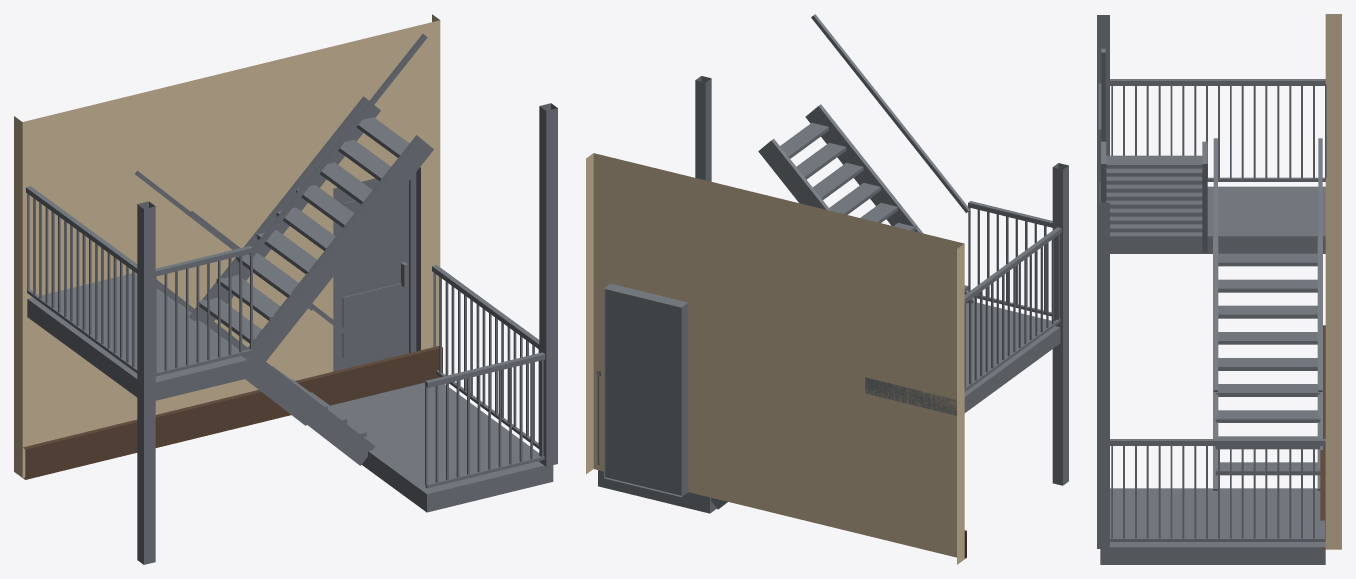
File: mid-stair_close.fbx
The picture shows the model from 3 angles, left to right: view 1: azimuth 30°, elevation 25°; view 2: azimuth 150°, elevation 25°; view 3: azimuth 270°, elevation 25°; orthographic projection. The views are drawn at different scales.
Visible parts, largest first — view 1: a2009/200/mid-stair_close; view 2: a2009/200/mid-stair_close; view 3: a2009/200/mid-stair_close.
Boxes of the visible parts, x1,y1,x2,y2 form: a2009/200/mid-stair_close: [14, 14, 557, 564]; a2009/200/mid-stair_close: [586, 14, 1068, 564]; a2009/200/mid-stair_close: [1097, 14, 1341, 564].
Size of the model in its own units: 4.3 by 4.69 by 2.28.
